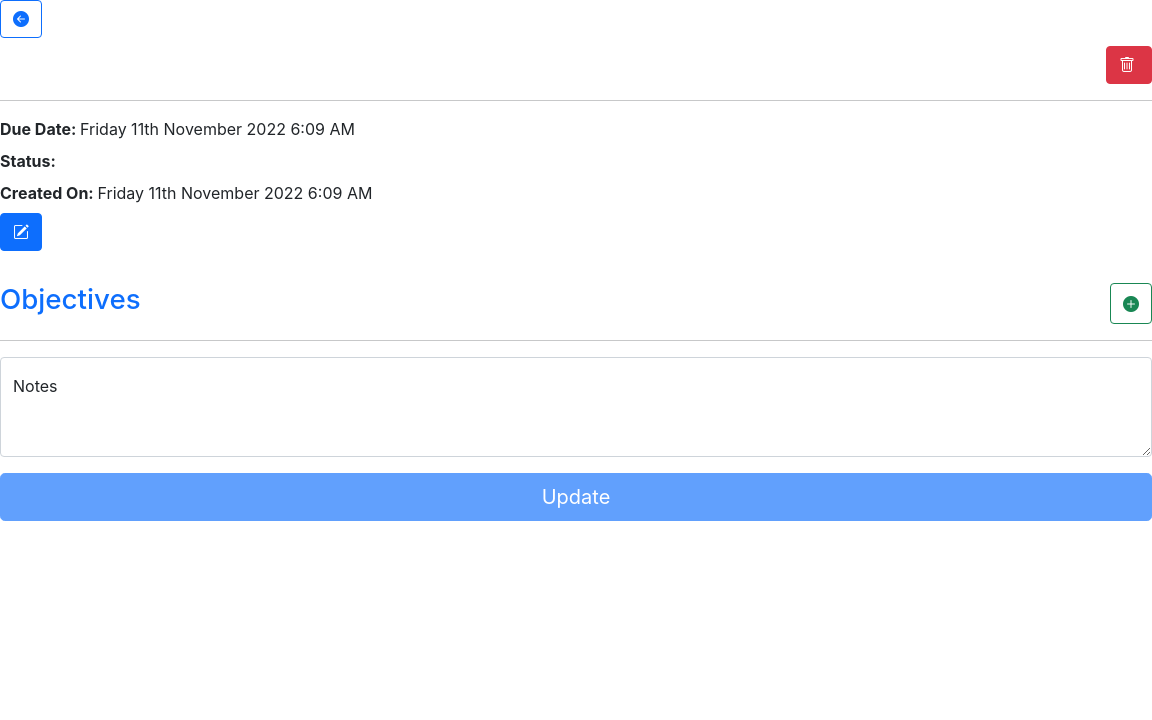
Test: EditGoal Component › Should Open modal on button click add new objective
Click the button named "add new objective" at (1131, 304), box [1110,283,1151,324]
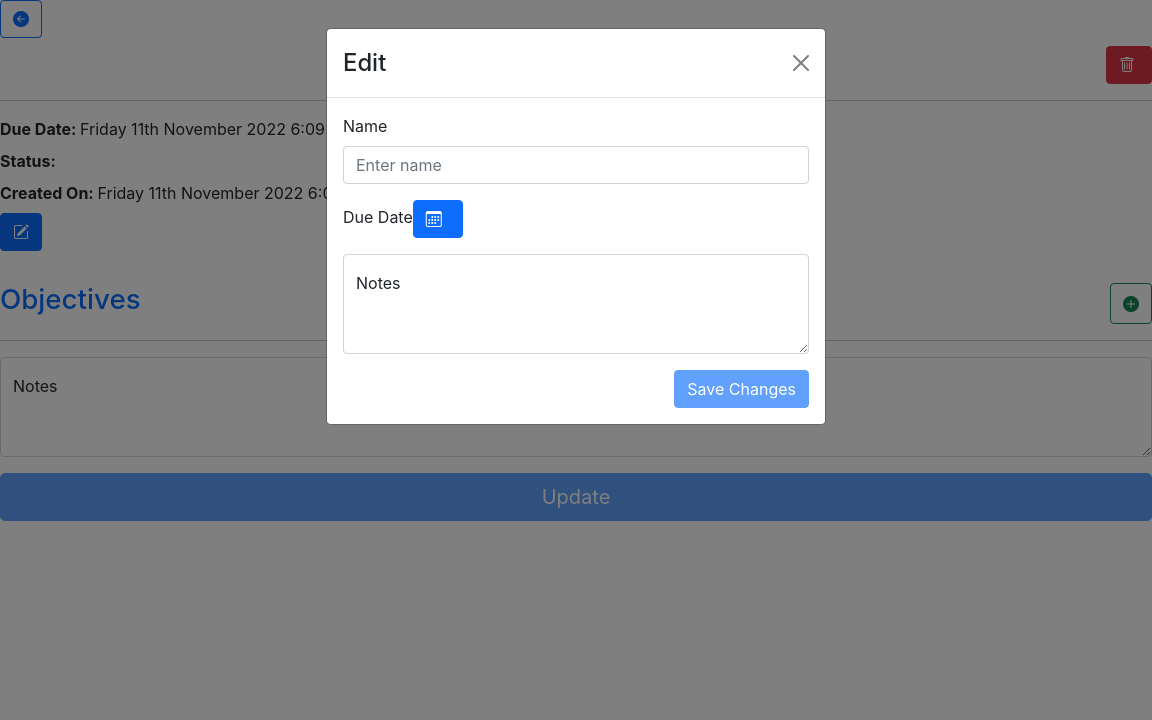
Expected: the dialog is shown, [326,28,826,425]
